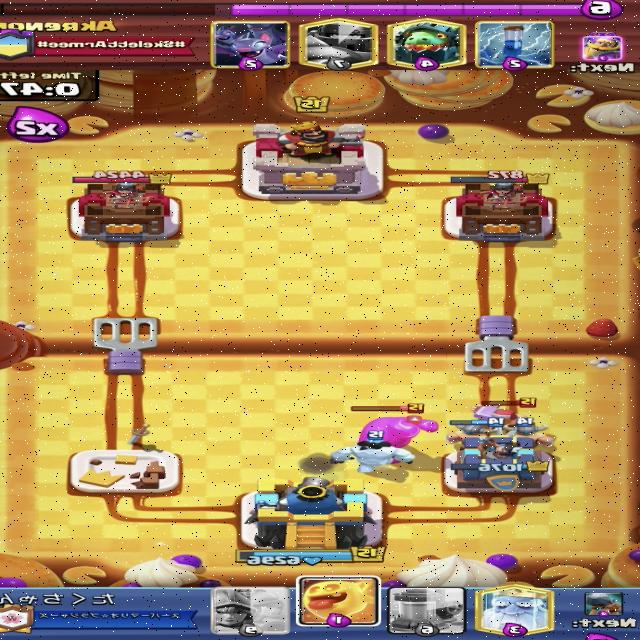Enemy-ElixirGolem: (348, 402, 438, 463)
Enemy-Lumberjack: (462, 396, 539, 434)
Player-EliteBarbarian: (442, 416, 505, 455), (496, 417, 555, 452)
Player-IceGolem: (325, 428, 415, 474)
